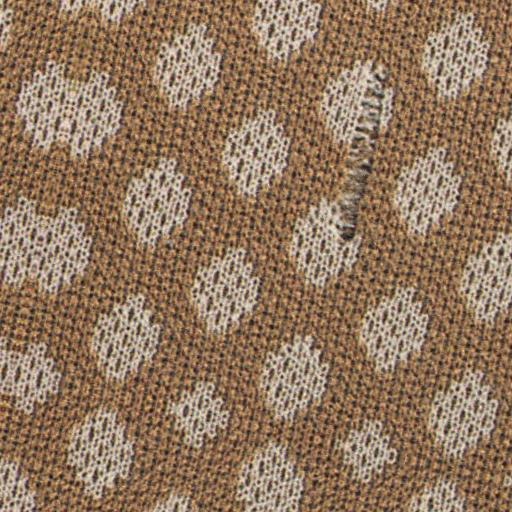slub: (326, 65, 395, 253)
